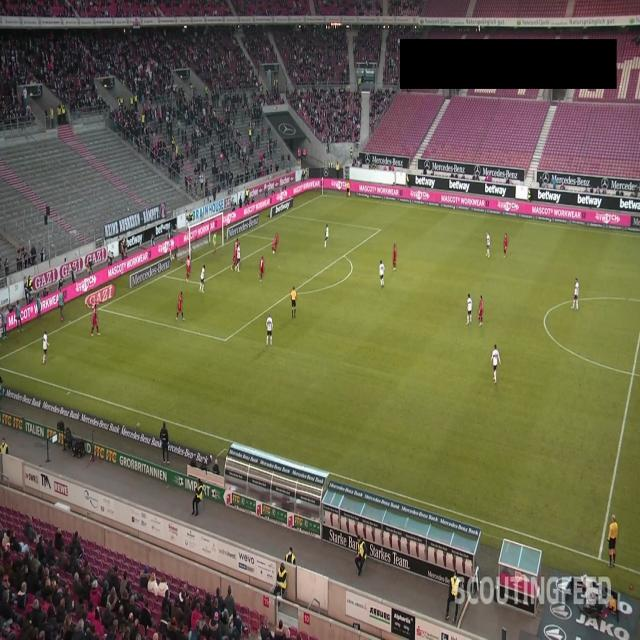ball: (272, 248, 276, 256)
f_player: (467, 294, 485, 326), (87, 298, 101, 337), (490, 347, 500, 385), (40, 330, 51, 364), (571, 276, 581, 310), (234, 236, 242, 272), (291, 288, 300, 318), (467, 294, 475, 326), (177, 290, 185, 322), (266, 317, 274, 347), (477, 295, 485, 325), (199, 264, 207, 292), (484, 232, 492, 258), (392, 246, 400, 272), (379, 260, 386, 288), (324, 224, 332, 248), (260, 258, 267, 282), (272, 231, 278, 259), (186, 255, 192, 282), (212, 232, 218, 254), (504, 232, 509, 258)
umpire: (605, 518, 625, 568), (291, 288, 300, 318)
